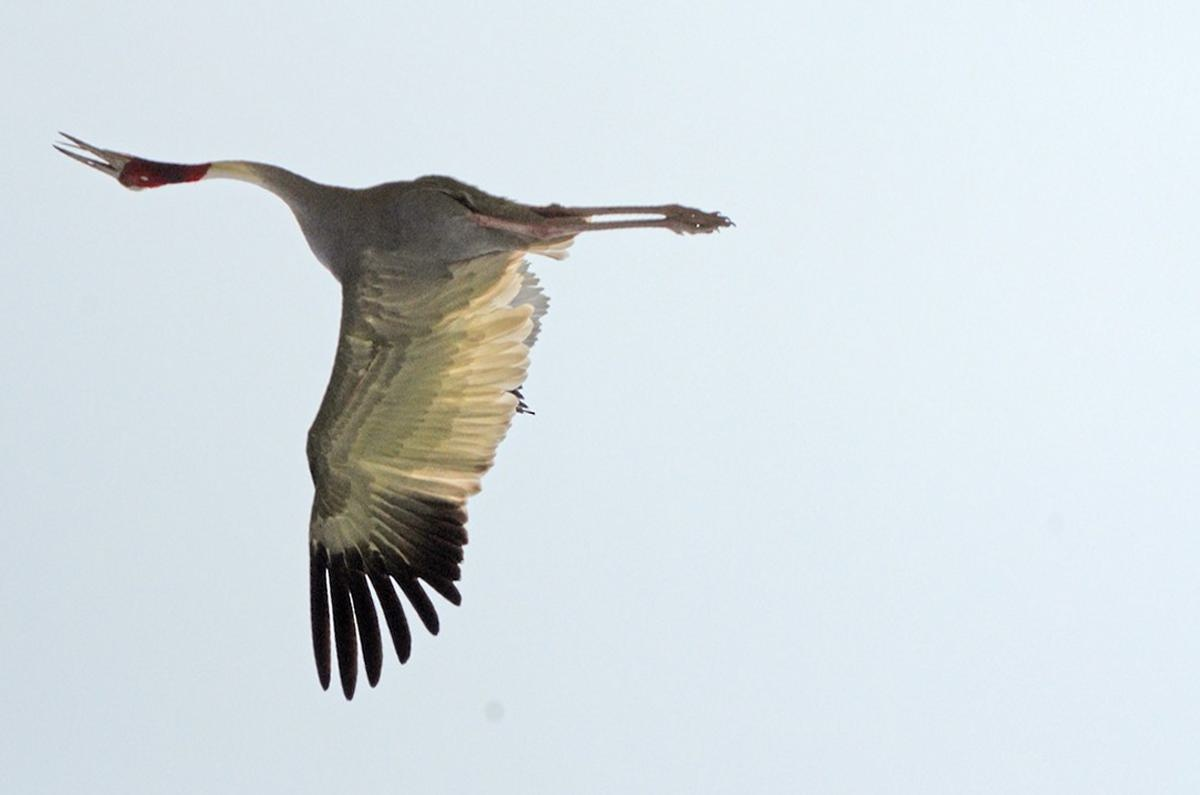crane: (35, 107, 789, 720)
